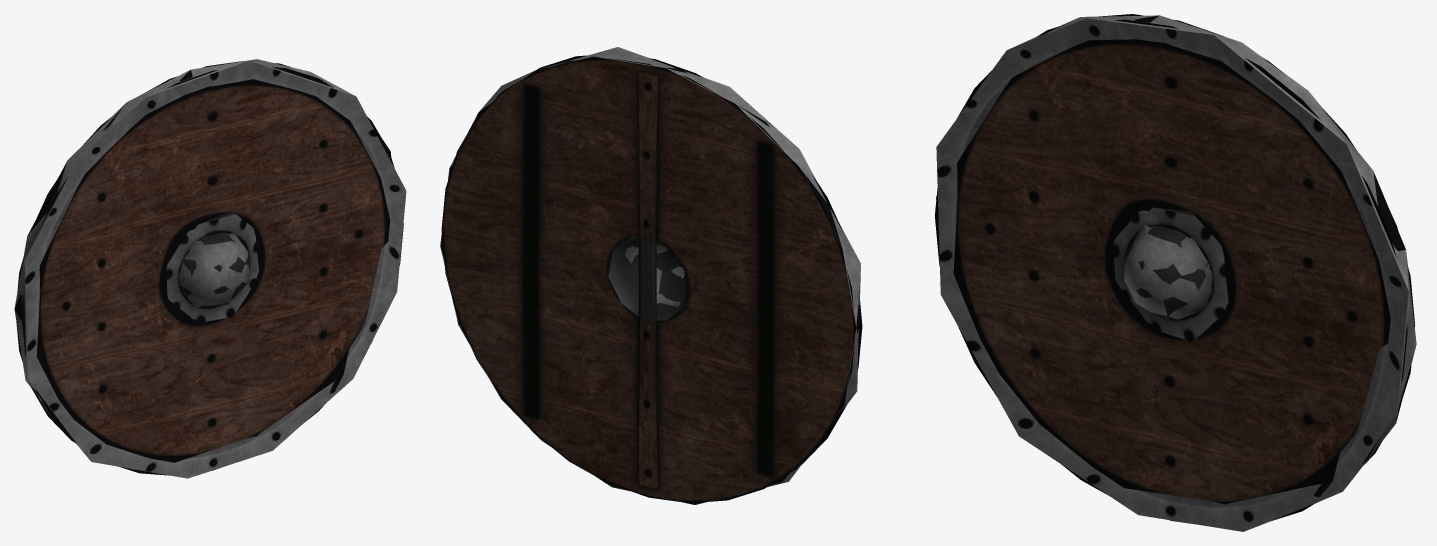
File: Schild_LOD1.dae
3 renders of one model, left to right at view 1: azimuth 30°, elevation 25°; view 2: azimuth 150°, elevation 25°; view 3: azimuth 330°, elevation 25°, orthographic. The views are drawn at different scales.
Visible parts, largest first — view 1: Schild_LOD1; view 2: Schild_LOD1; view 3: Schild_LOD1.
Part boxes in pixels (x1=…): Schild_LOD1: x1=14, y1=59, x2=406, y2=478; Schild_LOD1: x1=440, y1=47, x2=862, y2=504; Schild_LOD1: x1=935, y1=14, x2=1416, y2=531.
Bounding box in the file's own units: 0.85 × 0.105 × 0.85.
1 material, 1 textured.
